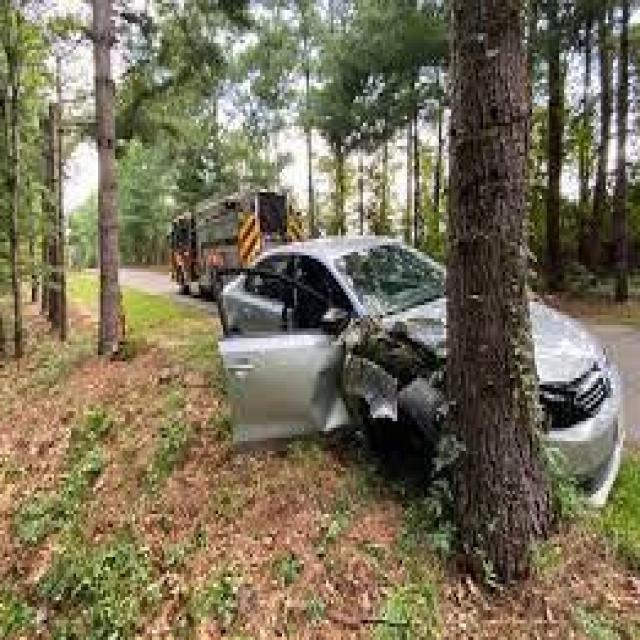accident: (203, 225, 629, 520)
